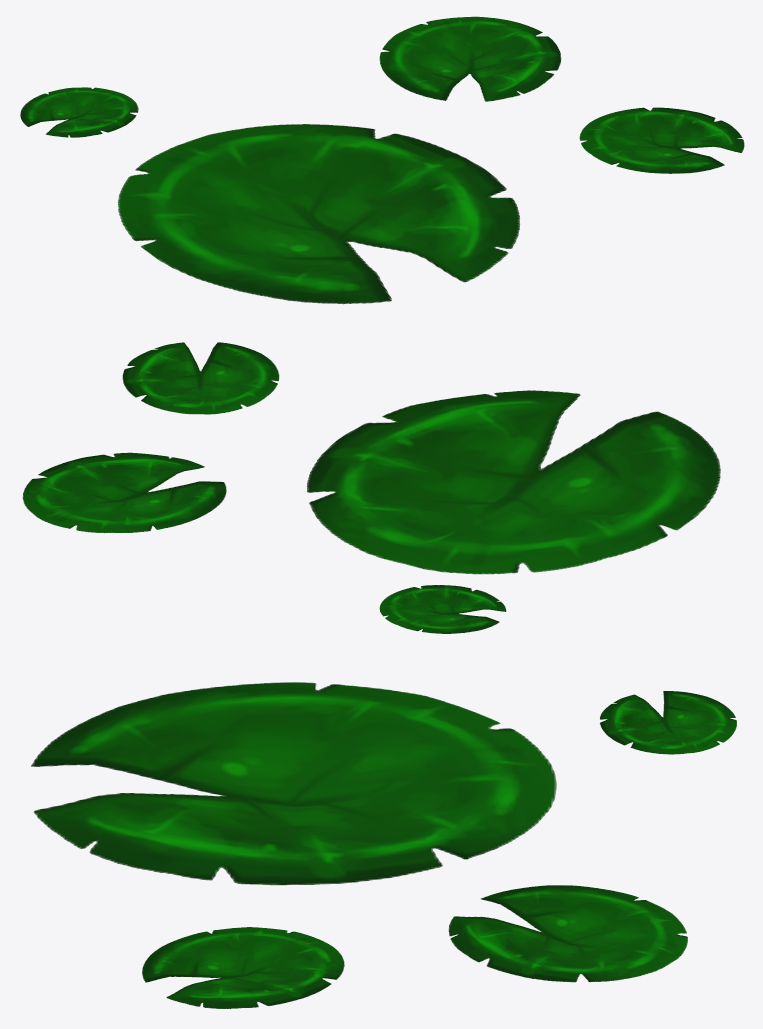
Rendered from Plant2.fbx.
3 views of the same model, one above another, from view 1: azimuth 30°, elevation 25°; view 2: azimuth 150°, elevation 25°; view 3: azimuth 270°, elevation 25° (orthographic). The views are drawn at different scales.
Parts seen in each view (by area): view 1: Plane.003; view 2: Plane.003; view 3: Plane.003.
Boxes of the visible parts, x1=… form: Plane.003: x1=20, y1=16, x2=744, y2=304; Plane.003: x1=22, y1=342, x2=720, y2=633; Plane.003: x1=31, y1=682, x2=736, y2=1008.
Size of the model in its own units: 3.25 by 2.82 by 0.1385.
